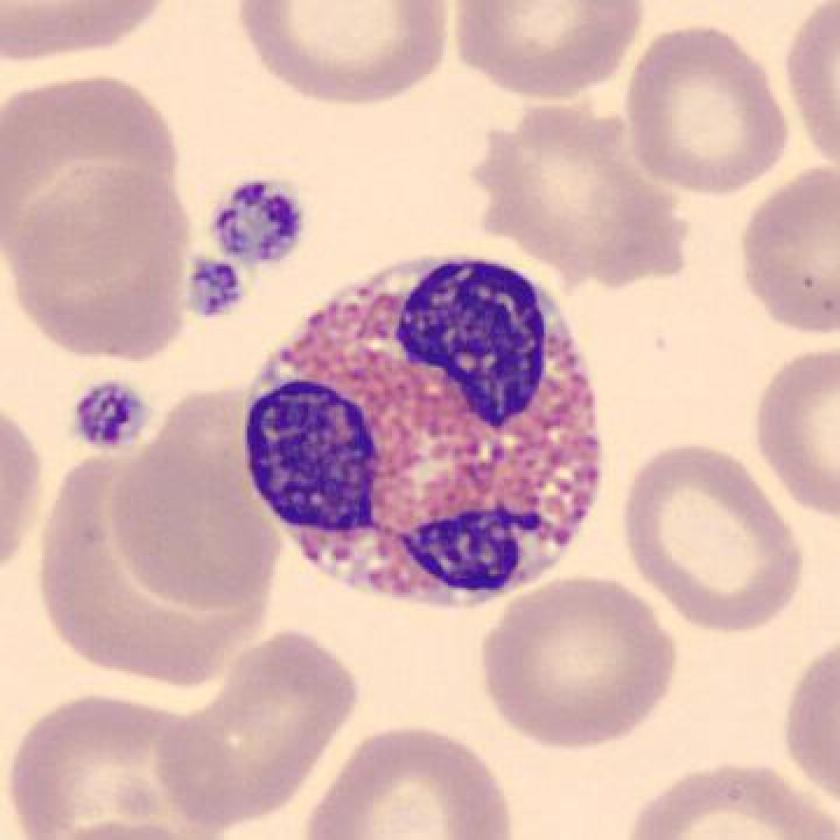eosinophil: (232, 242, 617, 614)
